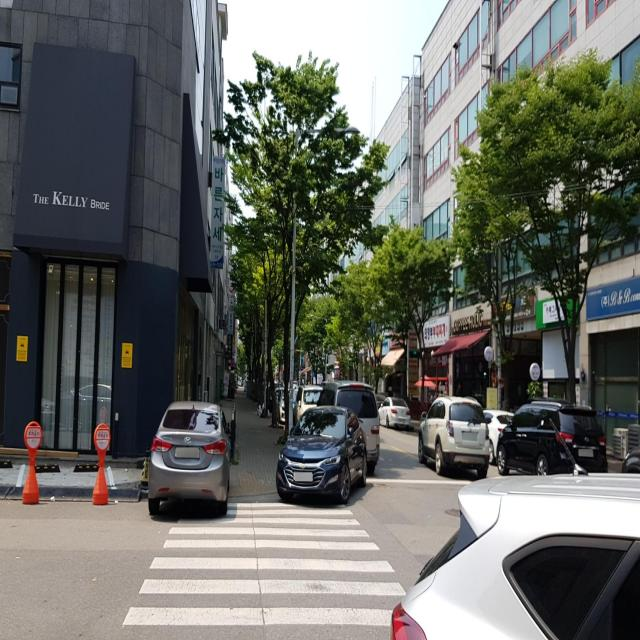횡단보도: (120, 500, 408, 630)
